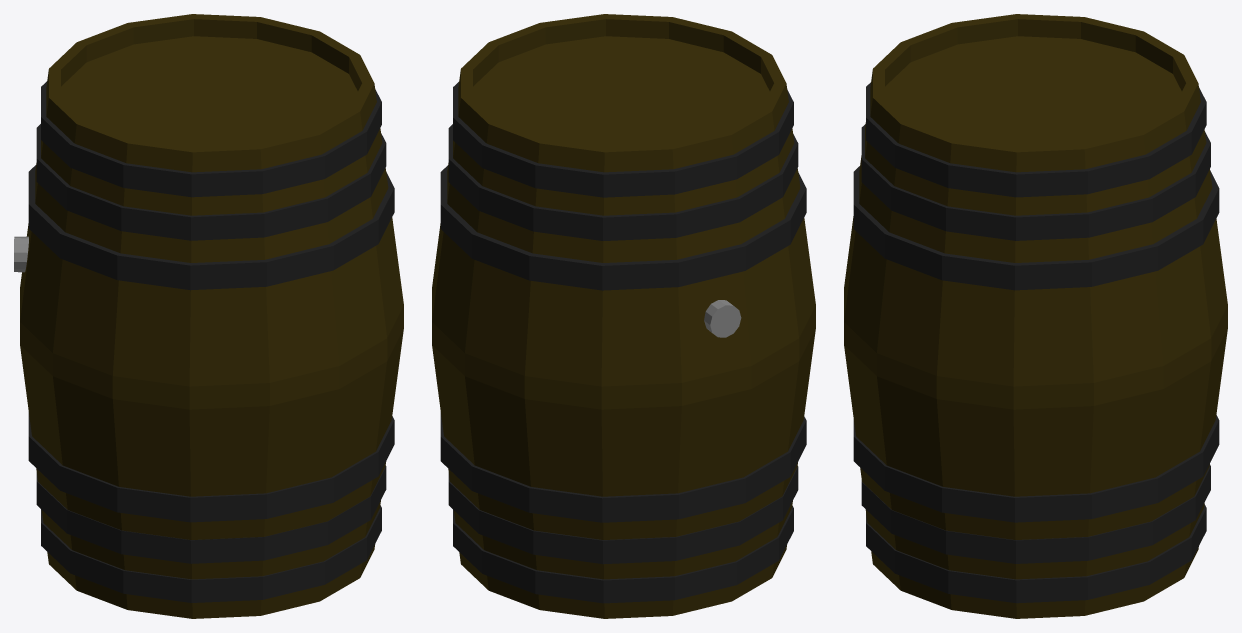
Rendered from barrel.fbx.
The picture shows the model from 3 angles, left to right: view 1: azimuth 30°, elevation 25°; view 2: azimuth 150°, elevation 25°; view 3: azimuth 270°, elevation 25°; orthographic projection.
Parts seen in each view (by area): view 1: Cylinder.005; view 2: Cylinder.005; view 3: Cylinder.005.
Part boxes in pixels (x1,y1,x2,y2): Cylinder.005: [14, 14, 403, 618]; Cylinder.005: [432, 14, 815, 618]; Cylinder.005: [844, 14, 1227, 618].
Size of the model in its own units: 199 by 265 by 198.
